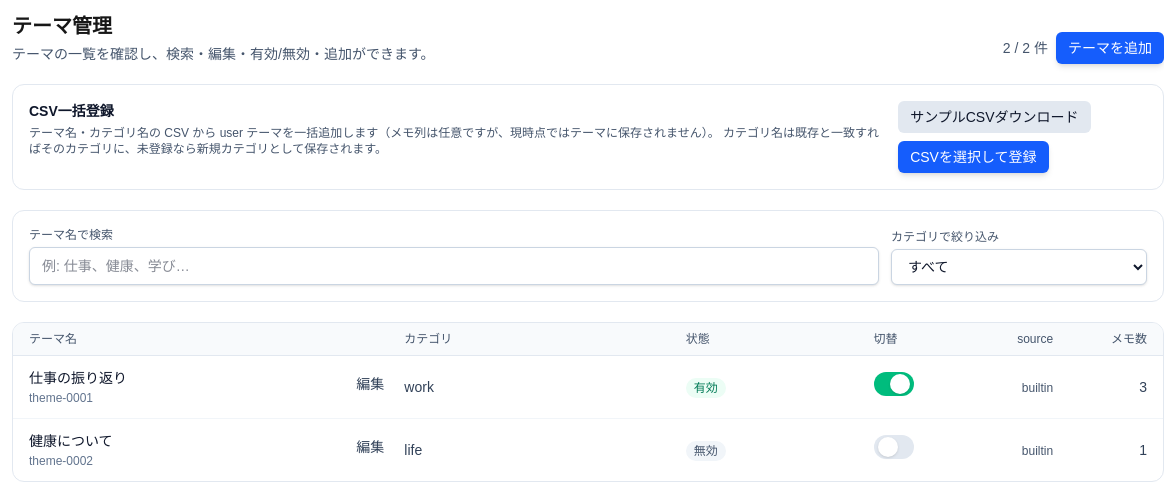
Test case: /themes page › filters by search query and category
Expected: the text "仕事の振り返り" is shown, [29,370,127,386]
Type "健康" into the search field labelled "テーマ名で検索".
click(454, 266); type("健康")  # box [29,247,879,285]
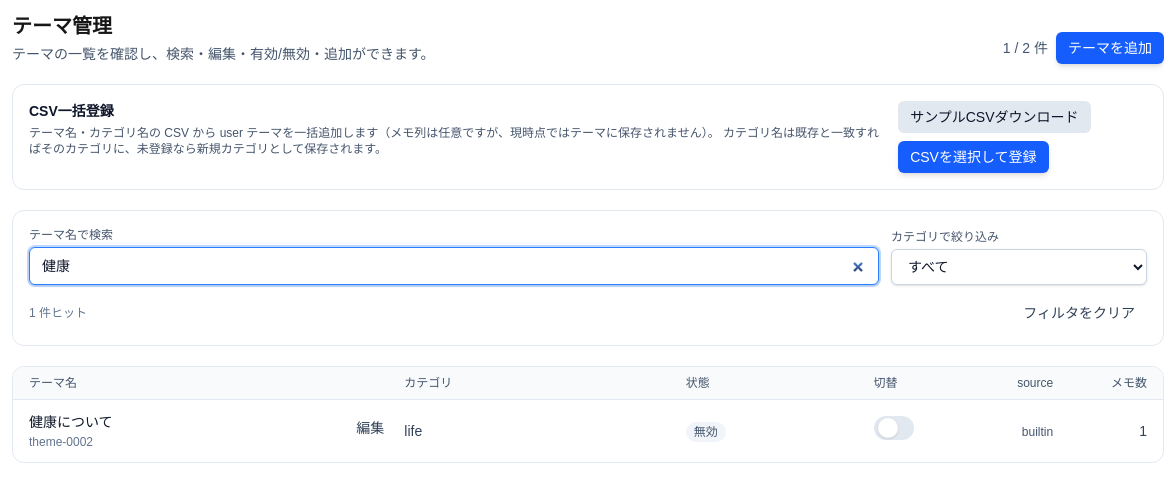
Expected: the text "健康について" is shown, [29,414,113,430]
Expected: the text "仕事の振り返り" is gone
Expected: the text "1 件ヒット" is shown, [29,305,87,321]
Select "work" in the dropdown labelled "カテゴリで絞り込み" at (1019, 267), box [891,249,1147,285]
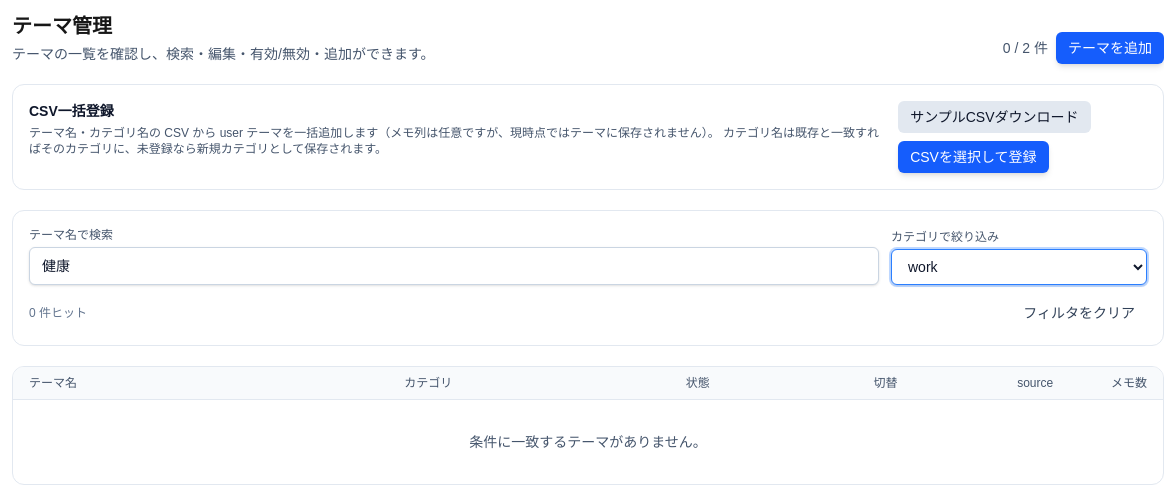
Expected: the list item "条件に一致するテーマがありません。" is shown, [469,434,707,450]
